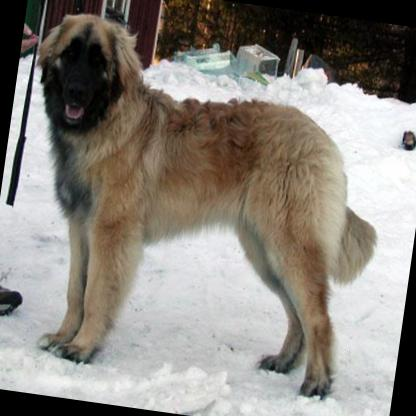Leonberg: (0, 6, 402, 402)
